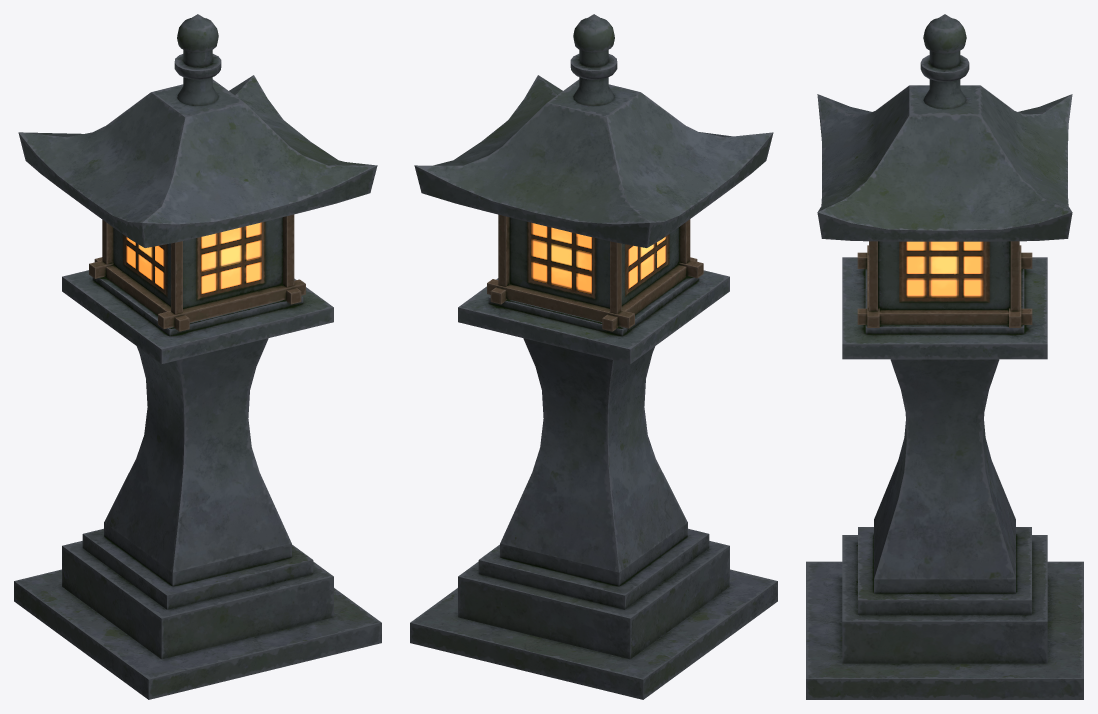
Rendered from LuzJaponesa_LOD.fbx.
3 renders of one model, left to right at view 1: azimuth 30°, elevation 25°; view 2: azimuth 150°, elevation 25°; view 3: azimuth 270°, elevation 25°, orthographic. The views are drawn at different scales.
Parts seen in each view (by area): view 1: StreetLight_LOD0; view 2: StreetLight_LOD0; view 3: StreetLight_LOD0.
Boxes of the visible parts, x1=… form: StreetLight_LOD0: x1=14, y1=14, x2=381, y2=699; StreetLight_LOD0: x1=410, y1=14, x2=777, y2=699; StreetLight_LOD0: x1=806, y1=14, x2=1083, y2=699.
Size of what is drawn, in the model's own units: 51.1 by 126 by 50.61.
